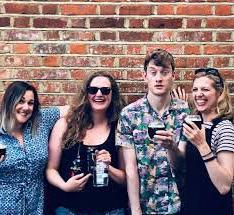Drunk: (192, 78, 218, 113), (149, 61, 173, 95), (90, 78, 113, 111), (13, 89, 34, 122)
